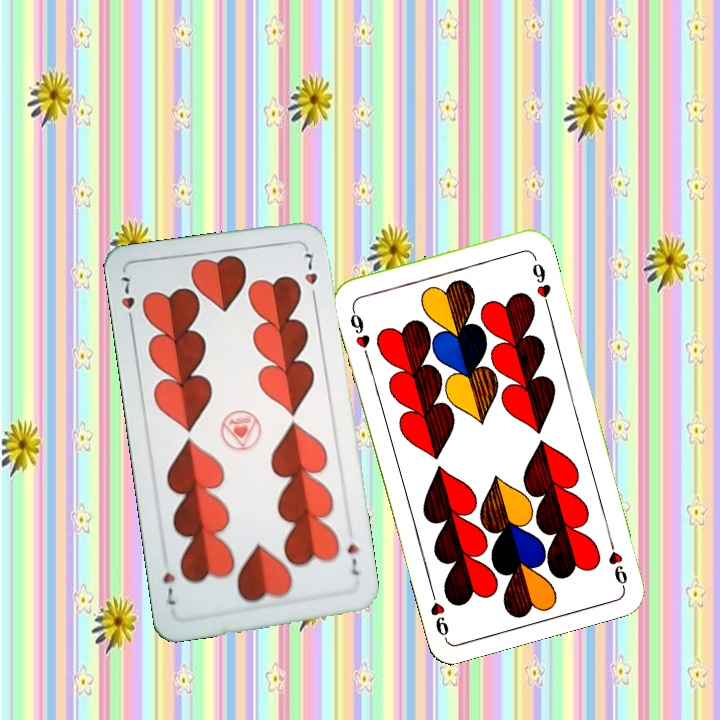H7: (117, 272, 138, 329), (343, 540, 361, 578)
H9: (346, 302, 373, 360), (603, 531, 630, 589)
